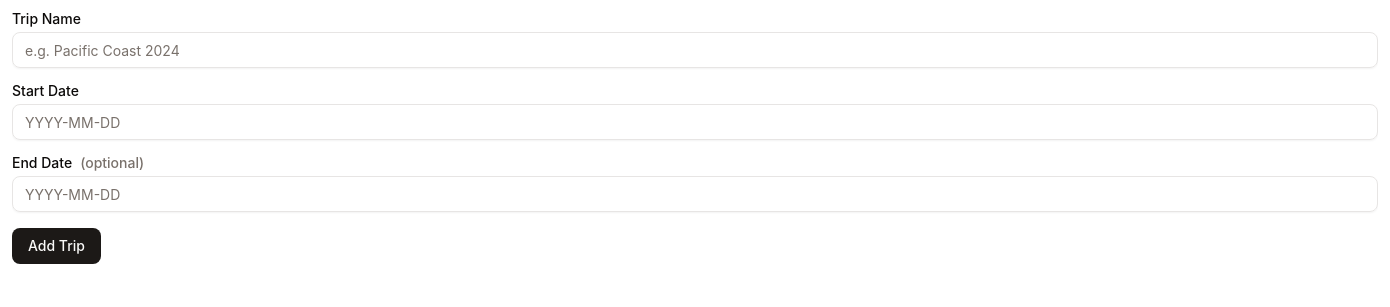
TripForm › shows a validation error when start date is not in YYYY-MM-DD format
Type "Pacific Coast" into the field labelled "Trip Name" at (695, 50), box x1=12 y1=32 x2=1378 y2=68
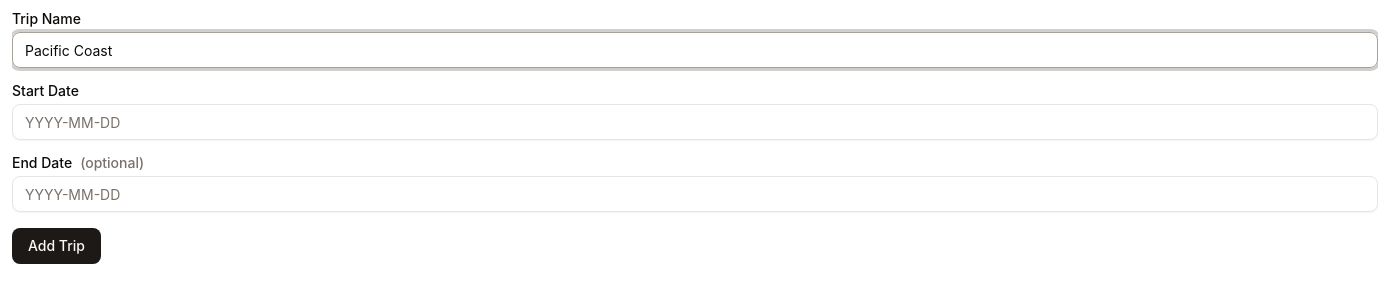
Type "06012024" into the field labelled "Start Date" at (695, 122), box x1=12 y1=104 x2=1378 y2=140
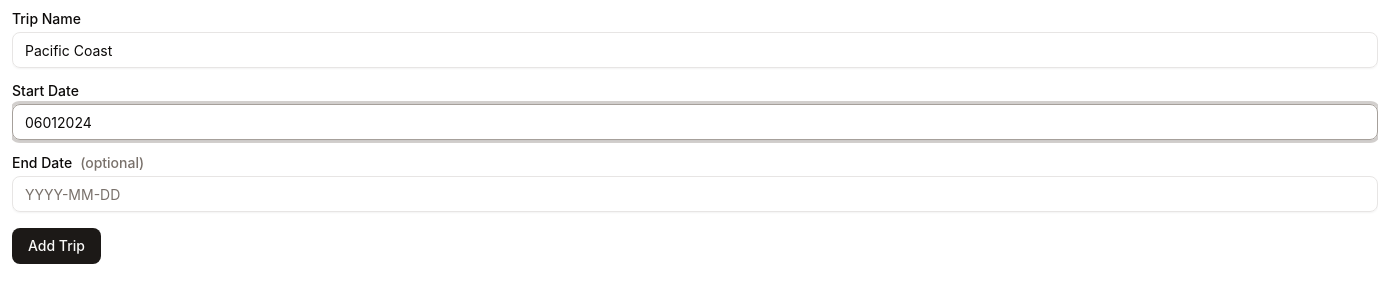
Click the button "Add Trip" at (56, 246), box x1=12 y1=228 x2=101 y2=264
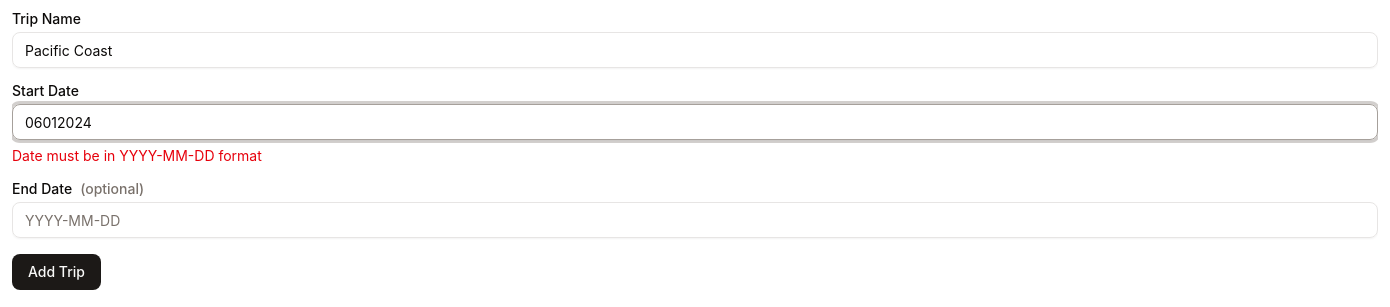
Result: the text "Date must be in YYYY-MM-DD format" is shown at x1=12 y1=147 x2=262 y2=164
